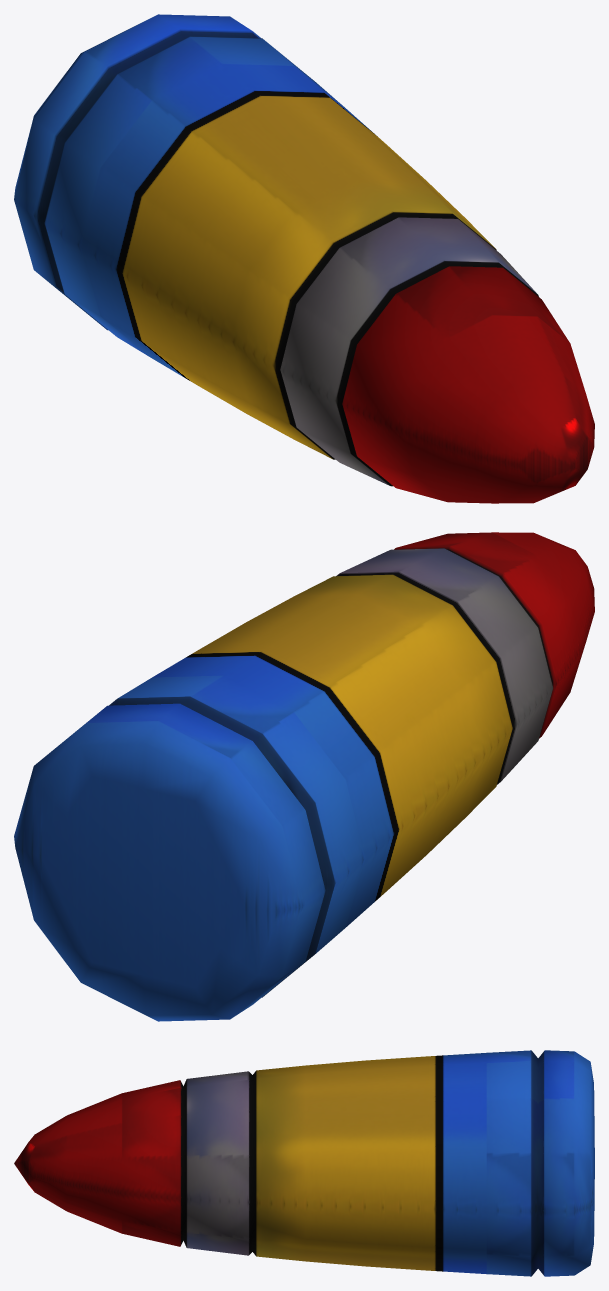
File: bullet.fbx
The picture shows the model from 3 angles, top to bottom: view 1: azimuth 30°, elevation 25°; view 2: azimuth 150°, elevation 25°; view 3: azimuth 270°, elevation 25°; orthographic projection. The views are drawn at different scales.
Parts seen in each view (by area): view 1: bullet; view 2: bullet; view 3: bullet.
Boxes of the visible parts, <box> form: bullet: <box>14,14,594,503</box>; bullet: <box>14,532,594,1021</box>; bullet: <box>14,1050,594,1276</box>.
Size of the model in its own units: 17.15 by 17.08 by 43.83.
Materials: 1 (1 with a texture image).
